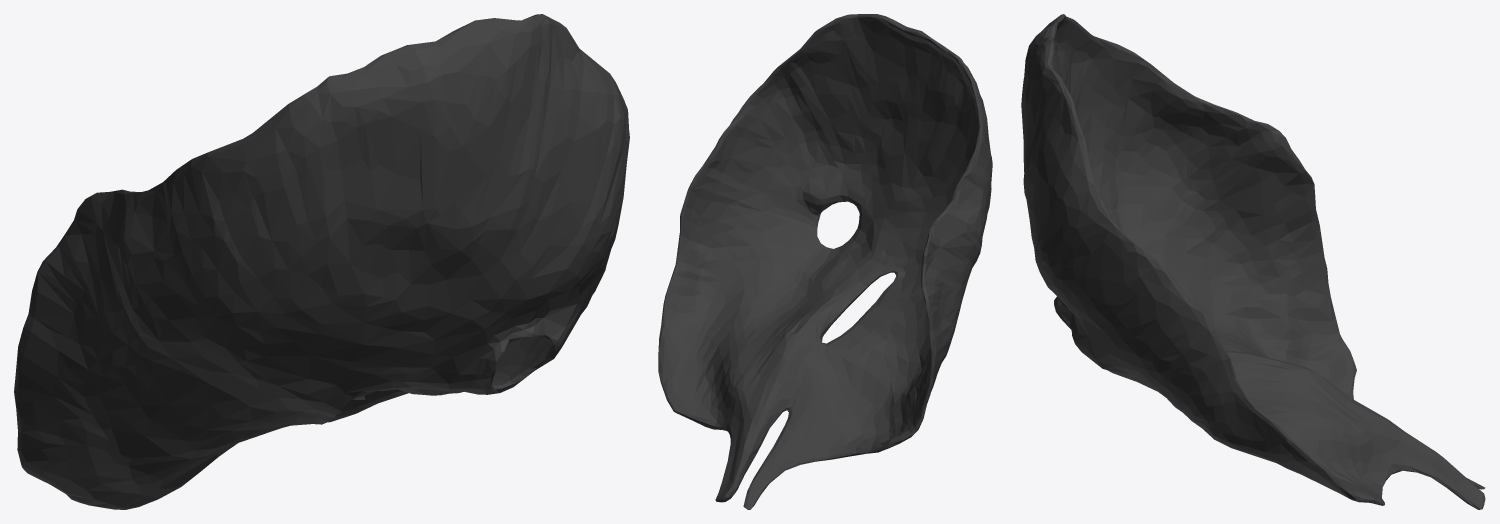
The model's file is diaphragm.glb.
3 views of the same model, side by side, from view 1: azimuth 30°, elevation 25°; view 2: azimuth 150°, elevation 25°; view 3: azimuth 270°, elevation 25° (orthographic). The views are drawn at different scales.
Visible parts, largest first — view 1: diaphragm; view 2: diaphragm; view 3: diaphragm.
Part boxes in pixels (x1,y1,x2,y2): diaphragm: [14, 14, 629, 509]; diaphragm: [658, 14, 992, 509]; diaphragm: [1021, 14, 1485, 509].
Size of the model in its own units: 0.00408 by 0.00489 by 0.00438.
Materials: 1 (1 with a texture image).
